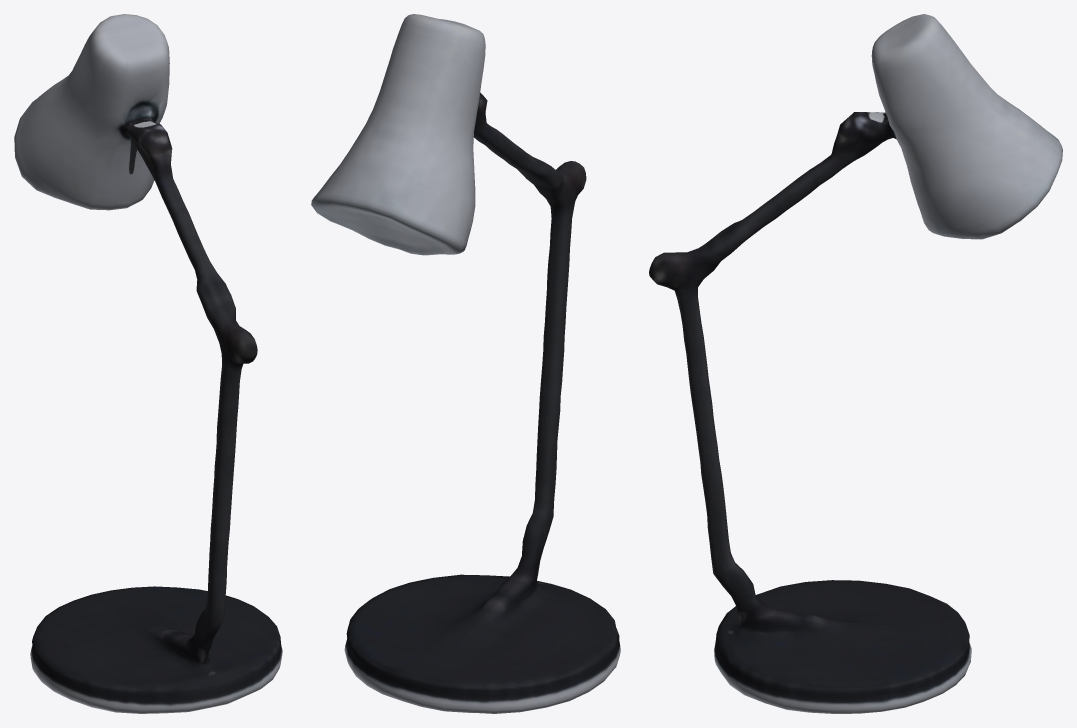
File: tablelamp.fbx
The picture shows the model from 3 angles, left to right: view 1: azimuth 30°, elevation 25°; view 2: azimuth 150°, elevation 25°; view 3: azimuth 270°, elevation 25°; orthographic projection. The views are drawn at different scales.
Parts seen in each view (by area): view 1: mesh; view 2: mesh; view 3: mesh.
Boxes of the visible parts, left/top/right/bottom form: mesh: left=14, top=14, right=282, bottom=713; mesh: left=311, top=14, right=620, bottom=713; mesh: left=649, top=14, right=1062, bottom=713.
Size of the model in its own units: 36.98 by 99.77 by 58.22.
